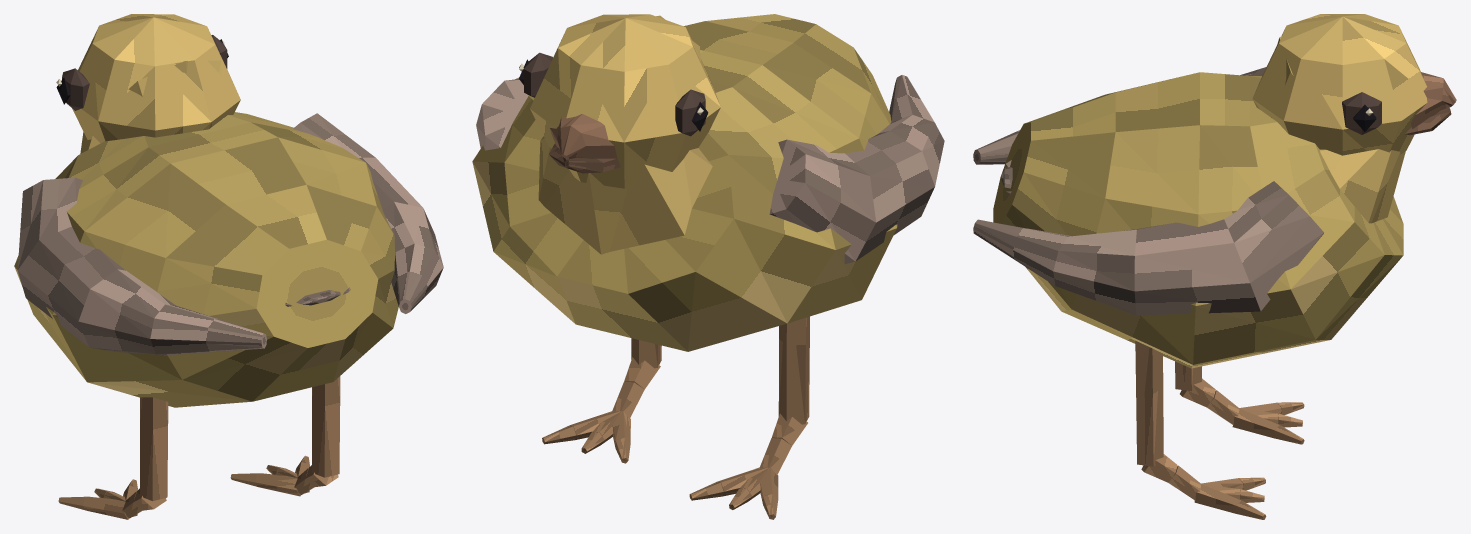
File: mon_chicken_chick.glb
3 renders of one model, left to right at view 1: azimuth 30°, elevation 25°; view 2: azimuth 150°, elevation 25°; view 3: azimuth 270°, elevation 25°, orthographic. The views are drawn at different scales.
Parts seen in each view (by area): view 1: closed_body; view 2: closed_body; view 3: closed_body.
Part boxes in pixels (left/top/right/bottom): closed_body: left=14, top=14, right=443, bottom=519; closed_body: left=472, top=14, right=944, bottom=519; closed_body: left=973, top=14, right=1456, bottom=519.
Size of the model in its own units: 0.0813 by 0.0949 by 0.0927.
Materials: 1 (1 with a texture image).
